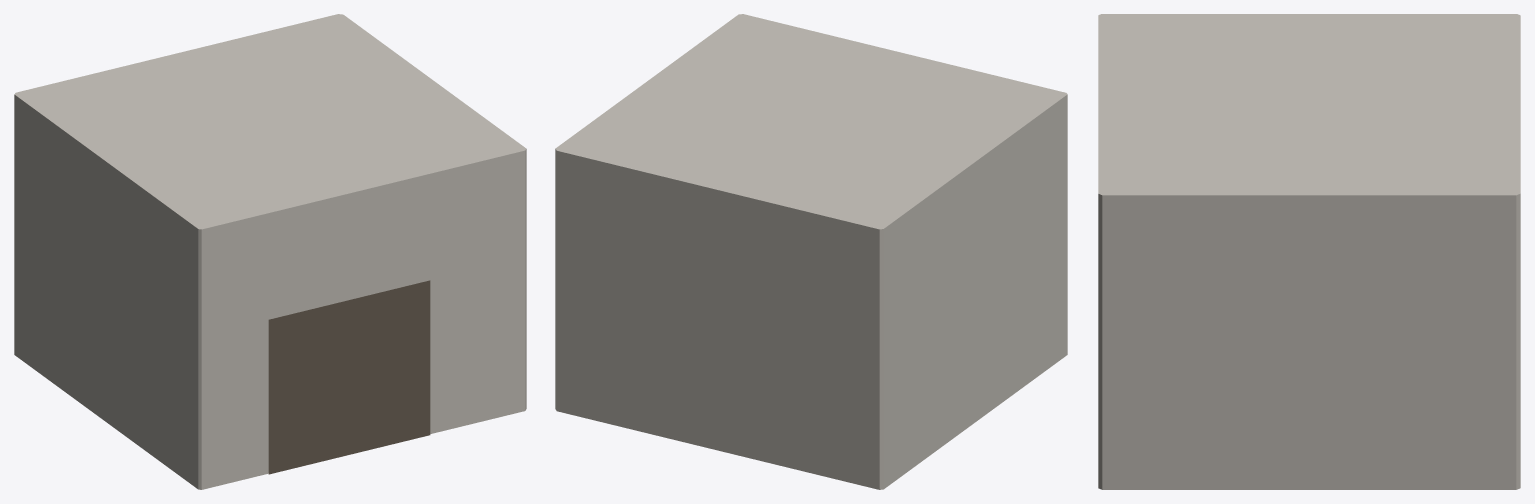
File: loin-etape-1.glb
3 renders of one model, left to right at view 1: azimuth 30°, elevation 25°; view 2: azimuth 150°, elevation 25°; view 3: azimuth 270°, elevation 25°, orthographic. The views are drawn at different scales.
Parts seen in each view (by area): view 1: loin; view 2: loin; view 3: loin.
Boxes of the visible parts, box(x1,y1,x2,y2) form: loin: box(14, 14, 526, 489); loin: box(555, 14, 1067, 489); loin: box(1098, 14, 1520, 489).
Bounding box in the file's own units: 0.7386 × 0.5595 × 0.7304.
